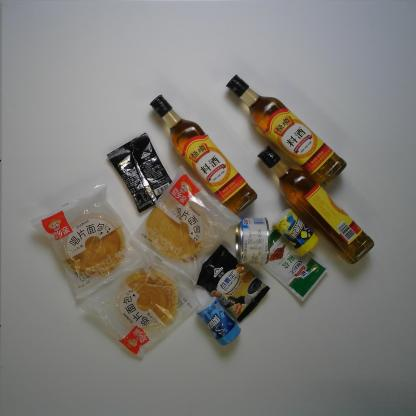Canned Food: (230, 214, 273, 268)
Dessert: (30, 180, 158, 305), (125, 162, 243, 292), (75, 252, 202, 362)
Gum: (268, 204, 322, 258), (192, 294, 244, 350)
Instant Drink: (194, 242, 272, 324), (104, 131, 174, 216)
Seasoner: (255, 141, 376, 267), (223, 71, 348, 189), (147, 92, 259, 217), (255, 226, 330, 304)
